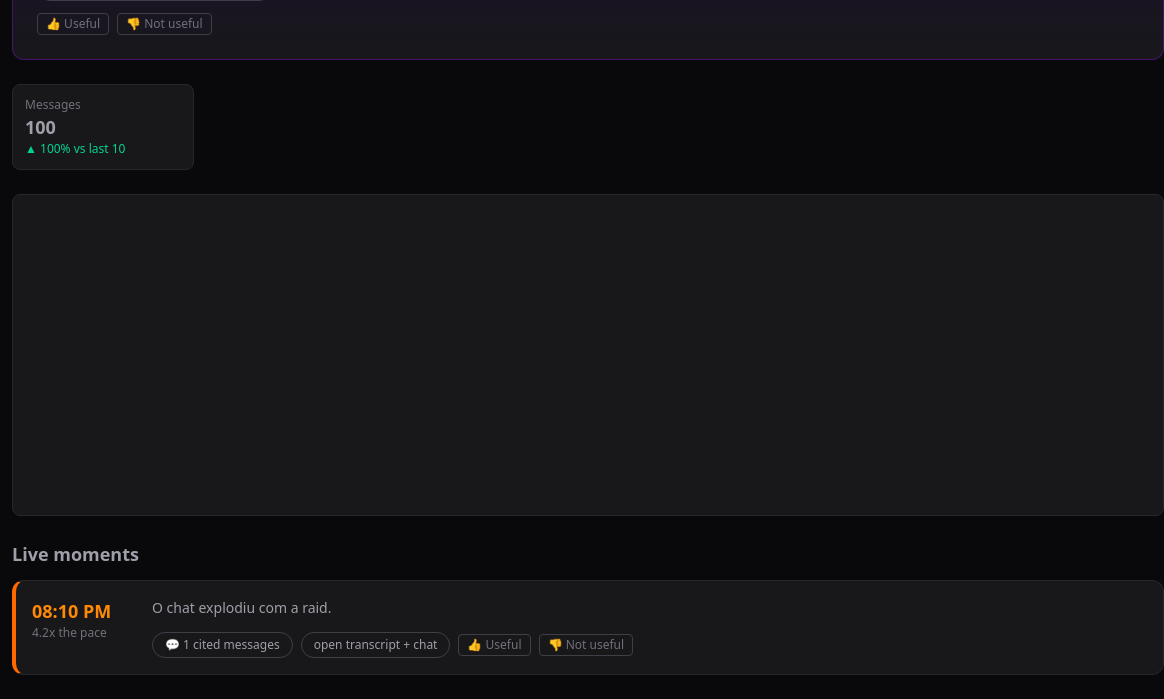
StreamReport › momento do pico mostra explicação e mensagens citadas ao clicar
This screenshot has width=1164, height=699.
(page scrolled)
expect the text "O chat explodiu com a raid." is shown: met, box [152,598,332,617]
Click the button "💬 1 cited messages".
click(222, 645)  # box [152,632,293,658]
(page scrolled)
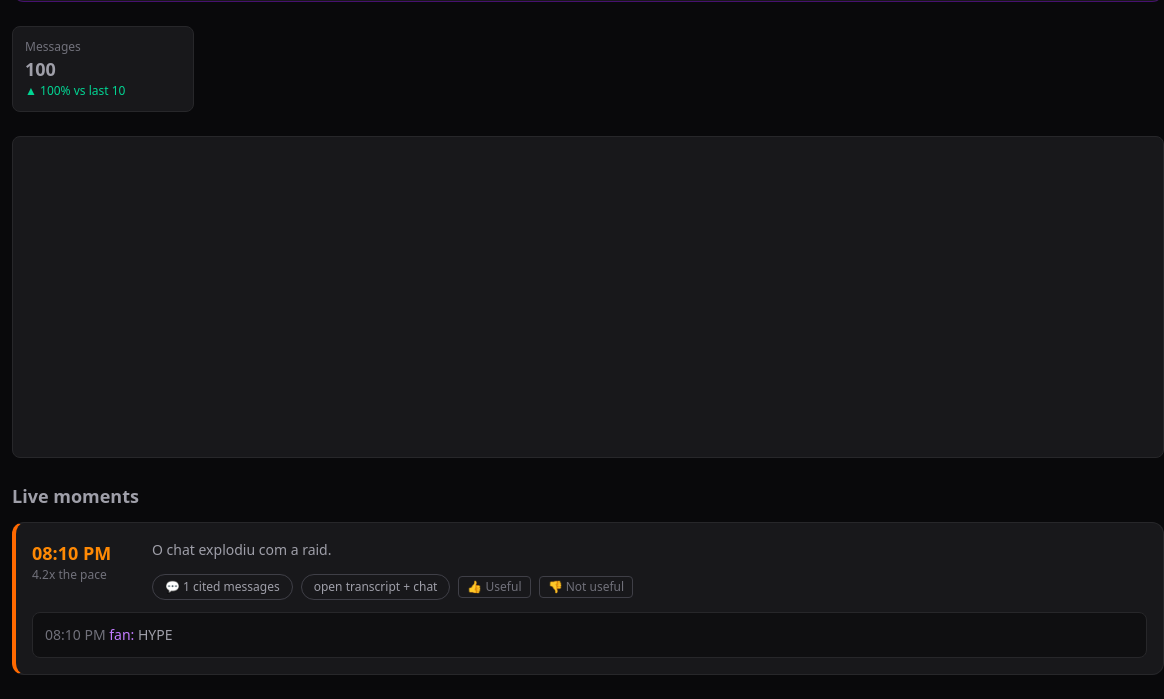
expect the text "08:10 PM fan: HYPE" is shown: met, box [45,625,172,644]
